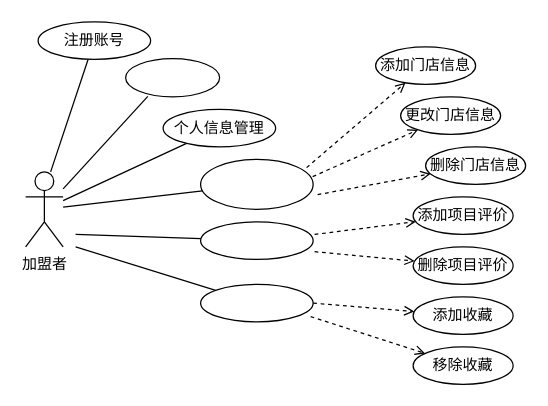
Image size: 548x406. Some labels were removed from this diagram. Each missing label, with the centre of its shape:
"登录账号" goes at (172,77).
"门店信息管理" goes at (256,183).
"项目收藏管理" goes at (256,302).
"项目评价管理" goes at (256,240).
